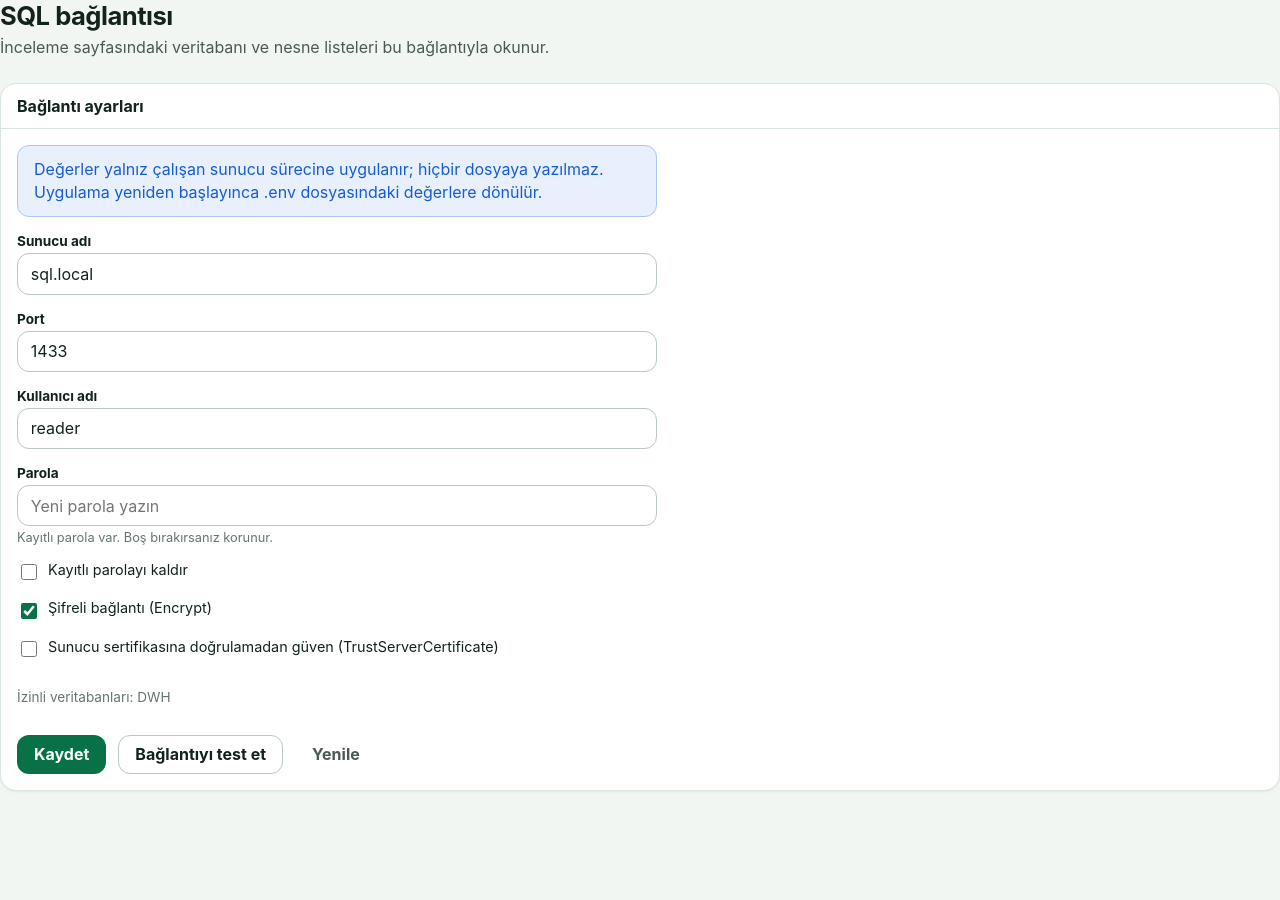
Test: SQL connection page › tests without saving and shows the count and the first 8 databases
Click the button "Bağlantıyı test et" at (201, 754), box [118,735,283,774]
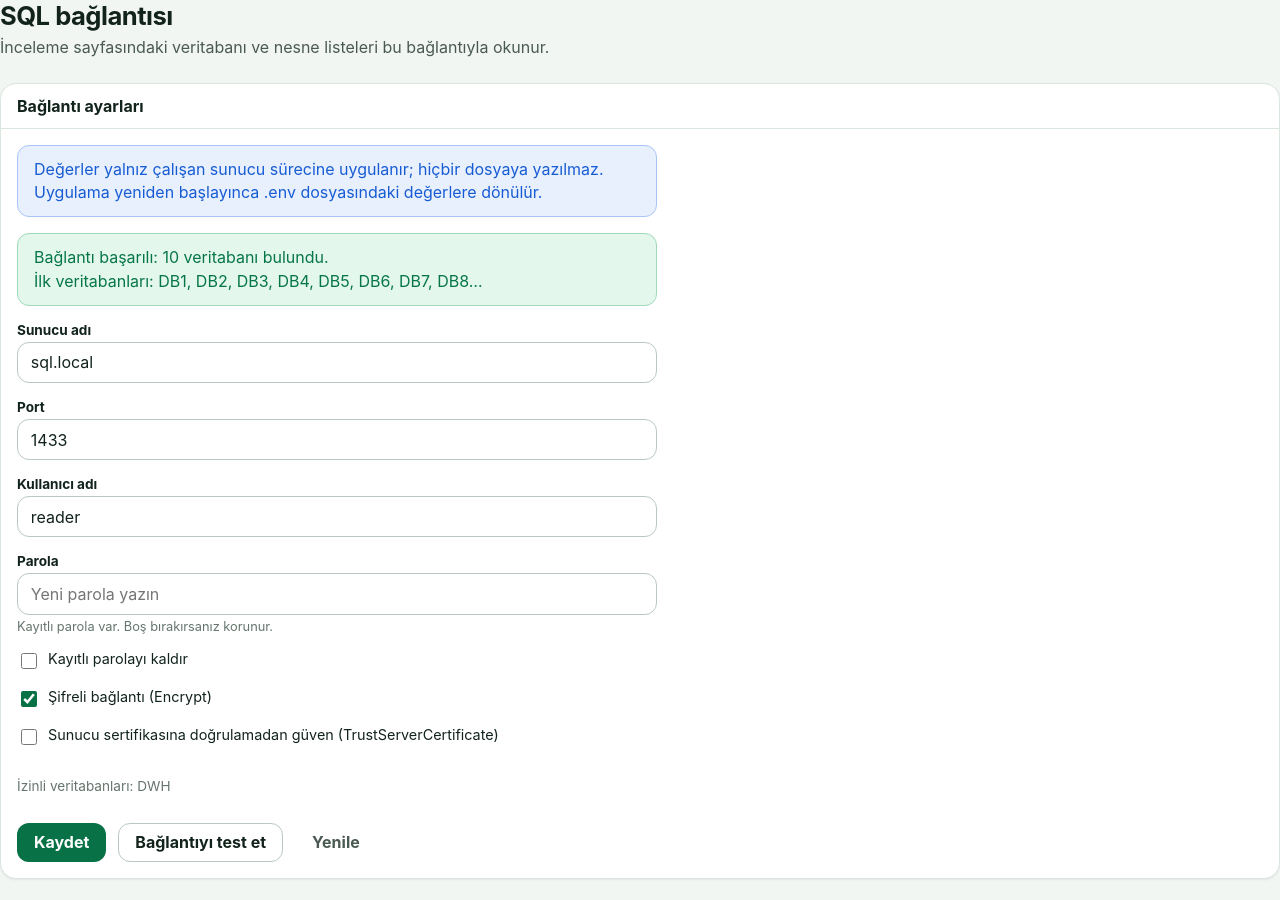
Expected: the text "Bağlantı başarılı: 10 veritabanı bulundu." is shown, [34,247,329,267]
Expected: the text "İlk veritabanları: DB1, DB2, DB3, DB4, DB5, DB6, DB7, DB8…" is shown, [34,271,483,291]
